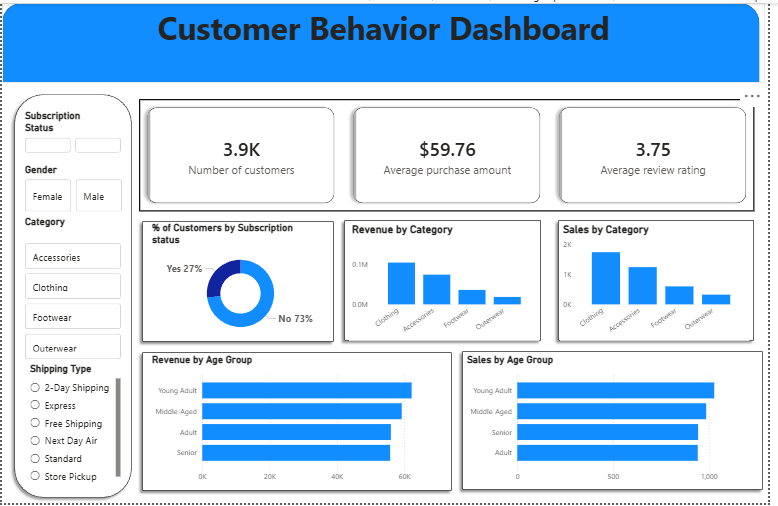

What the dashboard file says about the page in this screenshot:
{"tool":"powerbi","page":{"name":"Page 1","canvas":[1294,845],"ordinal":0},"visuals":[{"type":"cardVisual","fields":{"Data":["public customer.Number of customers","public customer.Average purchase amount","public customer.Average review rating"]},"box":[214.7,145.3,1074.9,224.3],"z":0},{"type":"shape","box":[0,0,1280.2,135.4],"z":1000},{"type":"textbox","box":[0,0,1289.6,135.6],"z":2000},{"type":"shape","box":[228.1,360,341.4,221.4],"z":3000},{"type":"donutChart","title":"% of Customers by Subscription status","fields":{"Category":["public customer.subscription_status"],"Y":["Count(public customer.customer_id)"]},"box":[248.4,370.1,309.3,199.4],"z":4000},{"type":"shape","box":[569.7,358.3,350.2,221.1],"z":5000},{"type":"shape","box":[931.3,358.3,348.6,221.1],"z":6000},{"type":"clusteredColumnChart","title":"Revenue by Category","fields":{"Y":["Sum(public customer.purchase_amount)"],"Category":["public customer.category"]},"box":[585.9,371.2,321.2,198.5],"z":7000},{"type":"clusteredColumnChart","title":"Sales by Category","fields":{"Y":["Count(public customer.customer_id)"],"Category":["public customer.category"]},"box":[942.6,371.2,319.6,198.5],"z":8000},{"type":"shape","box":[11.8,145.3,216.3,699.7],"z":9000},{"type":"advancedSlicerVisual","title":"Subscription Status","fields":{"Values":["public customer.subscription_status"]},"box":[33.9,180.8,172.7,77.5],"z":10000},{"type":"advancedSlicerVisual","title":"Gender","fields":{"Values":["public customer.gender"]},"box":[33.9,272.8,174.3,85.5],"z":11000},{"type":"advancedSlicerVisual","title":"Category","fields":{"Values":["public customer.category"]},"box":[33.8,360,172.4,268.7],"z":12000},{"type":"listSlicer","title":"Shipping Type","fields":{"Values":["public customer.shipping_type"]},"box":[42.2,608.4,163.9,209.6],"z":13000},{"type":"clusteredBarChart","fields":{"Y":["Sum(public customer.purchase_amount)"],"Category":["public customer.age_group"]},"box":[248.4,596.6,544.2,223.1],"z":14000},{"type":"shape","box":[228.1,581.4,540.8,251.8],"z":15000},{"type":"clusteredBarChart","title":"Revenue by Age Group","fields":{"Y":["Sum(public customer.purchase_amount)"],"Category":["public customer.age_group"]},"box":[248.4,593.2,503.6,224.8],"z":15001},{"type":"shape","box":[768.9,579.7,525.6,251.8],"z":15002},{"type":"clusteredBarChart","title":"Sales by Age Group","fields":{"Y":["Count(public customer.customer_id)"],"Category":["public customer.age_group"]},"box":[780.8,593.2,498.5,224.8],"z":15003}]}

Visuals, with their boxes in screenshot pixels (x1, y1, x2, y2), scaled from the page's 1294x845 canvas onto the 778x506 screenshot:
cardVisual - public customer.Number of customers x public customer.Average purchase amount: [x1=129, y1=87, x2=775, y2=221]
shape: [x1=0, y1=0, x2=770, y2=81]
textbox: [x1=0, y1=0, x2=775, y2=81]
shape: [x1=137, y1=216, x2=342, y2=348]
"% of Customers by Subscription status" donutChart: [x1=149, y1=222, x2=335, y2=341]
shape: [x1=343, y1=215, x2=553, y2=347]
shape: [x1=560, y1=215, x2=770, y2=347]
"Revenue by Category" clusteredColumnChart: [x1=352, y1=222, x2=545, y2=341]
"Sales by Category" clusteredColumnChart: [x1=567, y1=222, x2=759, y2=341]
shape: [x1=7, y1=87, x2=137, y2=505]
"Subscription Status" advancedSlicerVisual: [x1=20, y1=108, x2=124, y2=155]
"Gender" advancedSlicerVisual: [x1=20, y1=163, x2=125, y2=215]
"Category" advancedSlicerVisual: [x1=20, y1=216, x2=124, y2=376]
"Shipping Type" listSlicer: [x1=25, y1=364, x2=124, y2=490]
clusteredBarChart - Sum(public customer.purchase_amount) x public customer.age_group: [x1=149, y1=357, x2=477, y2=491]
shape: [x1=137, y1=348, x2=462, y2=499]
"Revenue by Age Group" clusteredBarChart: [x1=149, y1=355, x2=452, y2=490]
shape: [x1=462, y1=347, x2=777, y2=498]
"Sales by Age Group" clusteredBarChart: [x1=469, y1=355, x2=769, y2=490]
